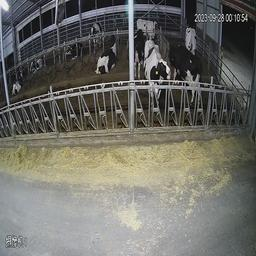cow: (166, 37, 205, 107), (141, 35, 172, 110), (95, 26, 121, 81), (184, 17, 202, 59), (62, 35, 88, 64), (7, 63, 27, 99), (133, 23, 143, 84), (139, 10, 161, 37), (88, 17, 103, 49), (26, 53, 45, 72)
